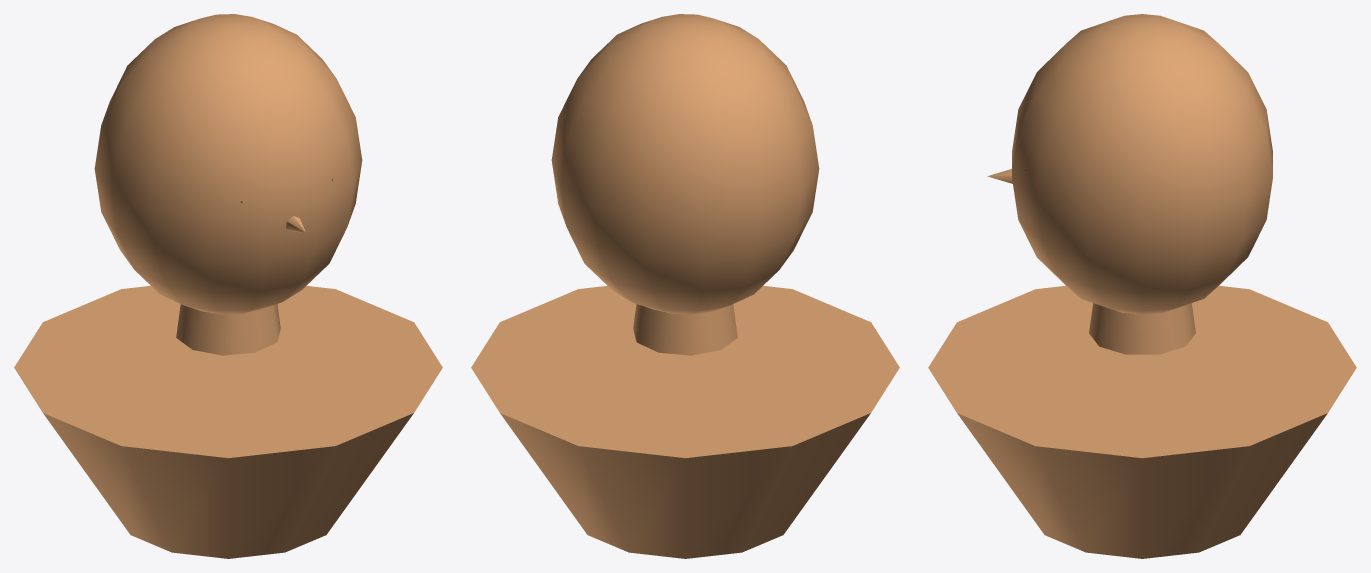
Rendered from raw_001.glb.
The picture shows the model from 3 angles, left to right: view 1: azimuth 30°, elevation 25°; view 2: azimuth 150°, elevation 25°; view 3: azimuth 270°, elevation 25°; orthographic projection.
Bounding box in the file's own units: 1.68 × 2.11 × 1.68.
